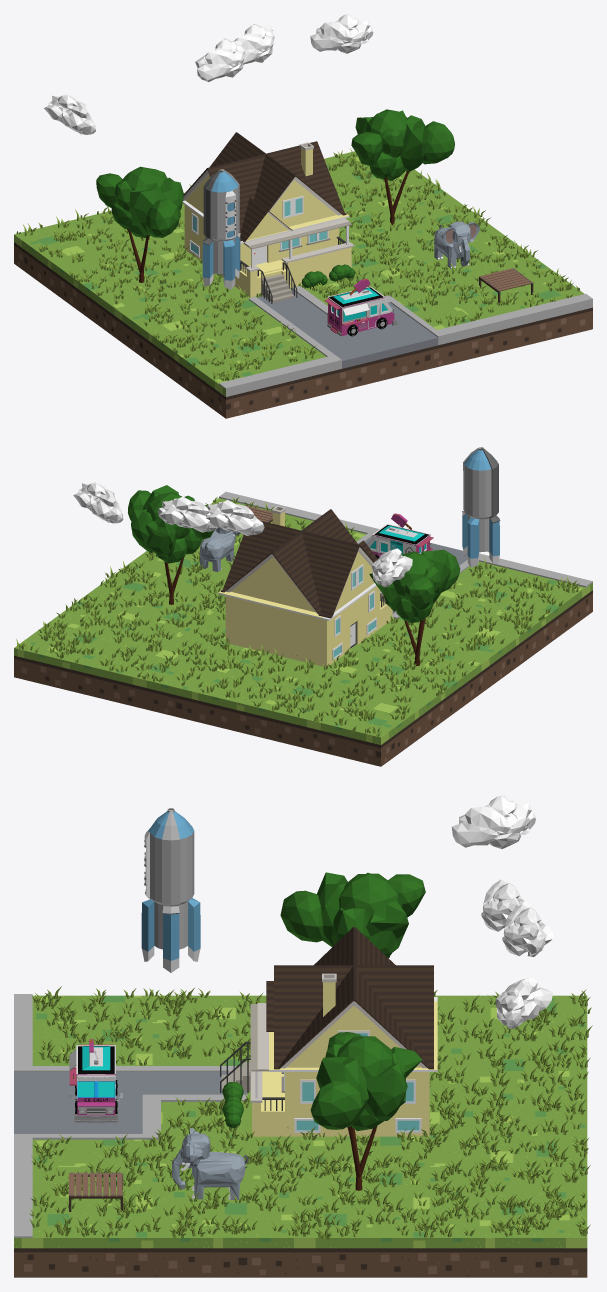
3 views of the same model, one above another, from view 1: azimuth 30°, elevation 25°; view 2: azimuth 150°, elevation 25°; view 3: azimuth 270°, elevation 25° (orthographic). The views are drawn at different scales.
Parts seen in each view (by area): view 1: Cube.006, Circle.012_Grass_0.192, Cube.1555, Cube.007, tree, tree.001, OBJRANDOM_ROCKETSHIP, VEHICLES_ICE_CREAM_TRUCK, ANIMAL_ELEFANTE, Cube.009; view 2: Cube.006, Cube.1555, Circle.012_Grass_0.192, Cube.007, OBJRANDOM_ROCKETSHIP, tree.001, tree, VEHICLES_ICE_CREAM_TRUCK, ANIMAL_ELEFANTE; view 3: Cube.006, Circle.012_Grass_0.192, Cube.1555, tree, Cube.007, tree.001, OBJRANDOM_ROCKETSHIP, VEHICLES_ICE_CREAM_TRUCK, ANIMAL_ELEFANTE, Cube.009.
Boxes of the visible parts, x1=… form: Cube.006: x1=14, y1=151, x2=592, y2=418; Circle.012_Grass_0.192: x1=16, y1=148, x2=579, y2=381; Cube.1555: x1=182, y1=132, x2=354, y2=303; Cube.007: x1=44, y1=14, x2=373, y2=134; tree: x1=351, y1=109, x2=454, y2=225; tree.001: x1=96, y1=166, x2=183, y2=282; OBJRANDOM_ROCKETSHIP: x1=202, y1=169, x2=240, y2=289; VEHICLES_ICE_CREAM_TRUCK: x1=324, y1=278, x2=397, y2=336; ANIMAL_ELEFANTE: x1=434, y1=221, x2=479, y2=269; Cube.009: x1=479, y1=268, x2=533, y2=302; Cube.006: x1=14, y1=491, x2=592, y2=766; Cube.1555: x1=218, y1=506, x2=392, y2=667; Circle.012_Grass_0.192: x1=16, y1=497, x2=579, y2=736; Cube.007: x1=73, y1=482, x2=412, y2=587; OBJRANDOM_ROCKETSHIP: x1=462, y1=447, x2=500, y2=567; tree.001: x1=369, y1=549, x2=460, y2=665; tree: x1=128, y1=485, x2=213, y2=604; VEHICLES_ICE_CREAM_TRUCK: x1=367, y1=513, x2=433, y2=558; ANIMAL_ELEFANTE: x1=199, y1=527, x2=240, y2=571; Cube.006: x1=14, y1=994, x2=587, y2=1277; Circle.012_Grass_0.192: x1=29, y1=986, x2=592, y2=1239; Cube.1555: x1=220, y1=927, x2=437, y2=1136; tree: x1=310, y1=1032, x2=422, y2=1190; Cube.007: x1=451, y1=795, x2=552, y2=1029; tree.001: x1=280, y1=872, x2=425, y2=958; OBJRANDOM_ROCKETSHIP: x1=141, y1=808, x2=200, y2=972; VEHICLES_ICE_CREAM_TRUCK: x1=69, y1=1039, x2=122, y2=1122; ANIMAL_ELEFANTE: x1=172, y1=1128, x2=248, y2=1199; Cube.009: x1=69, y1=1172, x2=122, y2=1211.
Size of the model in its own units: 4071 by 2179 by 4040.
Materials: 46 (3 with a texture image).
